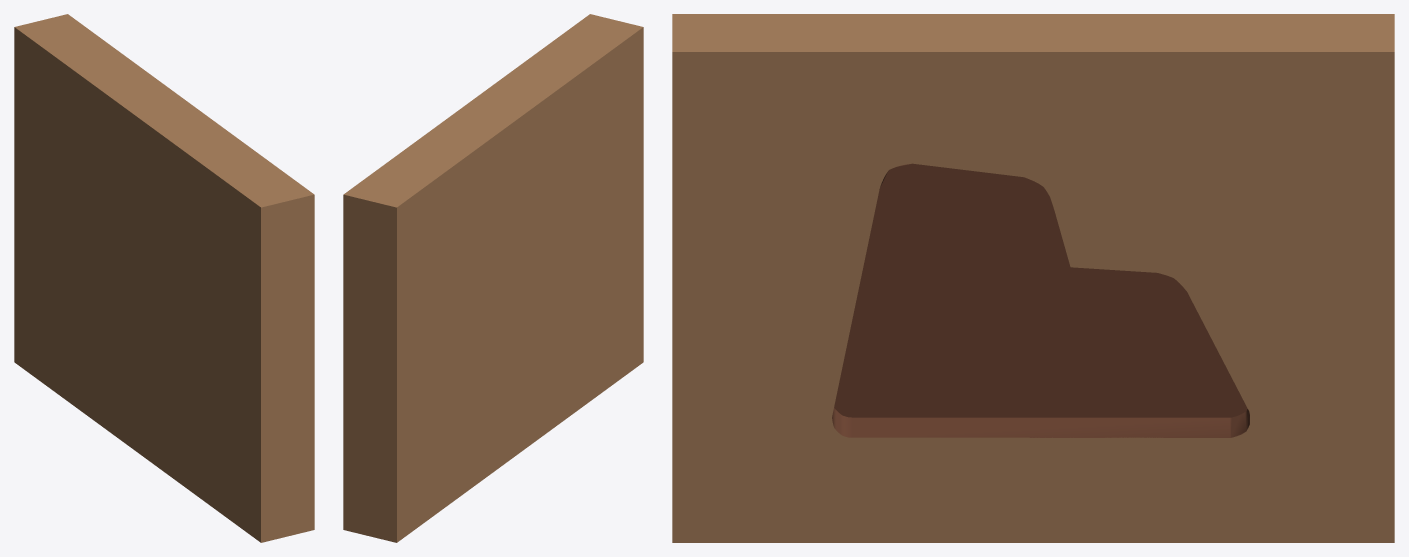
The model's file is SignBluffs.glb.
The picture shows the model from 3 angles, left to right: view 1: azimuth 30°, elevation 25°; view 2: azimuth 150°, elevation 25°; view 3: azimuth 270°, elevation 25°; orthographic projection. The views are drawn at different scales.
Parts seen in each view (by area): view 1: Cube; view 2: Cube; view 3: Cube.
Part boxes in pixels (x1,y1,x2,y2): Cube: (14, 14, 314, 542); Cube: (343, 14, 643, 542); Cube: (672, 14, 1394, 542).
Size of the model in its own units: 0.2 by 1.2 by 1.6.
